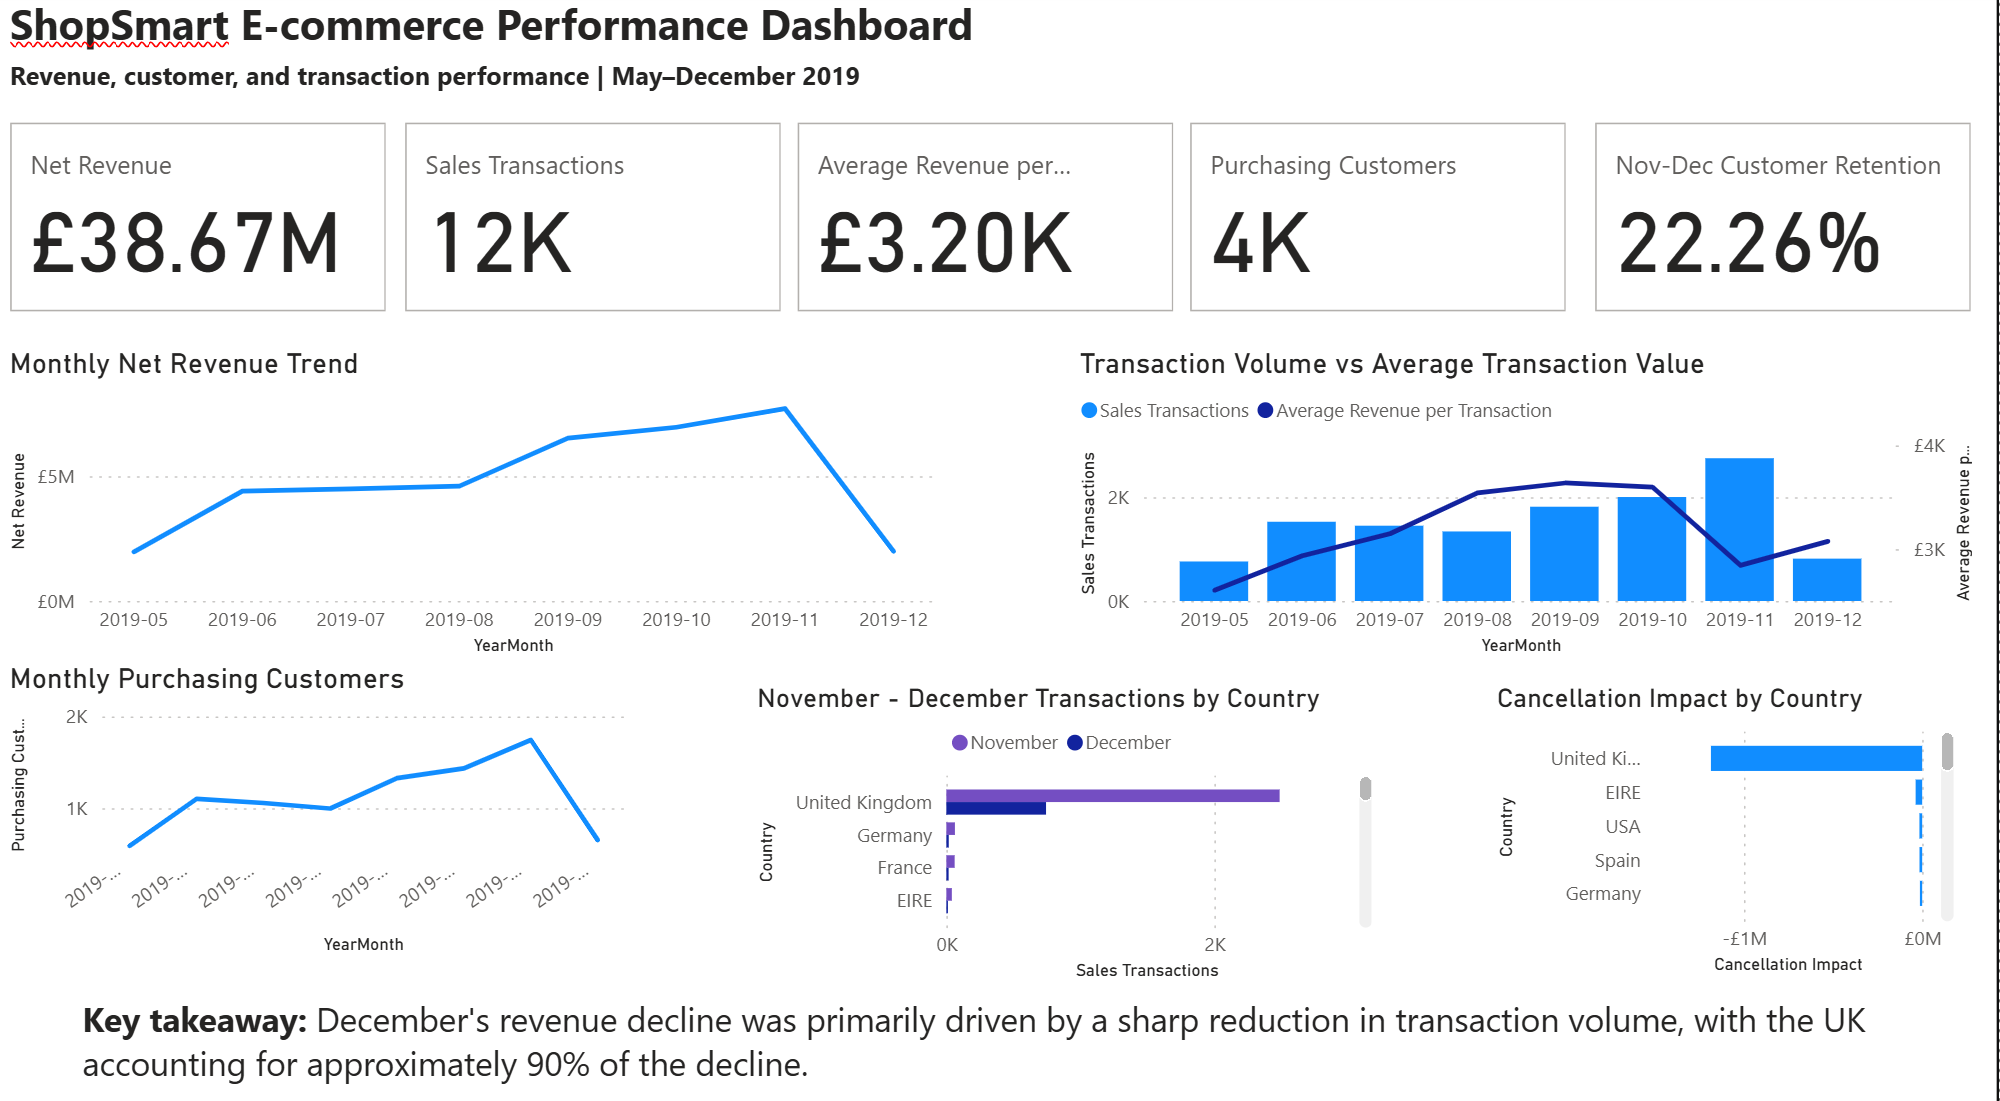

The dashboard page shown, as its layout file describes it:
{"tool":"powerbi","page":{"name":"Executive Overview","canvas":[1280,720],"ordinal":1},"visuals":[{"type":"textbox","box":[9.5,0,834.8,52.5],"z":0},{"type":"textbox","box":[9.5,39.8,753.7,41.3],"z":1},{"type":"cardVisual","fields":{"Data":["ecommerce_clean.Net Revenue"]},"box":[9.5,81.1,249.6,130.4],"z":2},{"type":"cardVisual","fields":{"Data":["ecommerce_clean.Sales Transactions"]},"box":[260.8,81.1,249.6,130.4],"z":3},{"type":"cardVisual","fields":{"Data":["ecommerce_clean.Average Revenue per Transaction"]},"box":[510.4,81.1,249.6,130.4],"z":4},{"type":"cardVisual","fields":{"Data":["ecommerce_clean.Purchasing Customers"]},"box":[760.1,81.1,249.6,130.4],"z":5},{"type":"cardVisual","fields":{"Data":["ecommerce_clean.Nov-Dec Customer Retention"]},"box":[1017.7,81.1,249.6,130.4],"z":6},{"type":"lineChart","title":"Monthly Net Revenue Trend","fields":{"Y":["ecommerce_clean.Net Revenue"],"Category":["dimdate.YearMonth"]},"box":[9.5,229,599.5,200.4],"z":7},{"type":"lineClusteredColumnComboChart","title":"Transaction Volume vs Average Transaction Value","fields":{"Category":["dimdate.YearMonth"],"Y":["ecommerce_clean.Sales Transactions"],"Y2":["ecommerce_clean.Average Revenue per Transaction"]},"box":[690.1,229,577.2,200.4],"z":8},{"type":"lineChart","title":"Monthly Purchasing Customers ","fields":{"Y":["ecommerce_clean.Purchasing Customers"],"Category":["dimdate.YearMonth"]},"box":[9.5,429.3,400.7,190],"z":9},{"type":"clusteredBarChart","title":"November - December Transactions by Country ","fields":{"Category":["dimcustomer.Country"],"Y":["ecommerce_clean.Sales Transactions"],"Series":["dimdate.MonthName"]},"box":[485,442.1,400.7,194],"z":10},{"type":"clusteredBarChart","fields":{"Category":["dimcustomer.Country"],"Y":["ecommerce_clean.Cancellation Impact"]},"box":[955.7,442.1,300,190],"z":11},{"type":"textbox","box":[55.7,636,1167.1,71.6],"z":12}]}

Visuals, with their boxes in screenshot pixels (x1, y1, x2, y2), scaled from the page's 1280x720 canvas onto the 2000x1101 screenshot:
textbox: rect(15, 0, 1319, 80)
textbox: rect(15, 61, 1192, 124)
cardVisual - ecommerce_clean.Net Revenue: rect(15, 124, 405, 323)
cardVisual - ecommerce_clean.Sales Transactions: rect(408, 124, 798, 323)
cardVisual - ecommerce_clean.Average Revenue per Transaction: rect(798, 124, 1188, 323)
cardVisual - ecommerce_clean.Purchasing Customers: rect(1188, 124, 1578, 323)
cardVisual - ecommerce_clean.Nov-Dec Customer Retention: rect(1590, 124, 1980, 323)
"Monthly Net Revenue Trend" lineChart: rect(15, 350, 952, 657)
"Transaction Volume vs Average Transaction Value" lineClusteredColumnComboChart: rect(1078, 350, 1980, 657)
"Monthly Purchasing Customers " lineChart: rect(15, 656, 641, 947)
"November - December Transactions by Country " clusteredBarChart: rect(758, 676, 1384, 973)
clusteredBarChart - dimcustomer.Country x ecommerce_clean.Cancellation Impact: rect(1493, 676, 1962, 967)
textbox: rect(87, 973, 1911, 1082)
